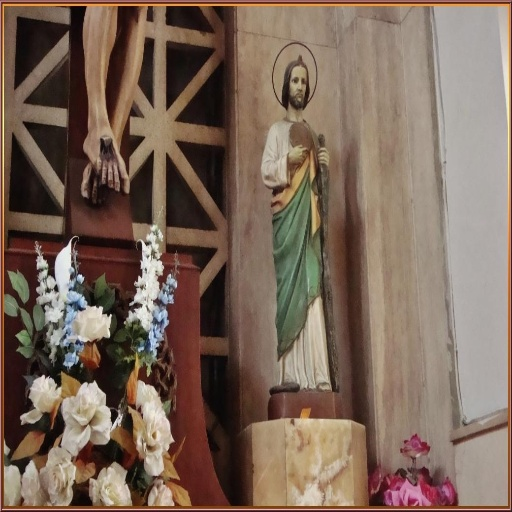hand: (288, 143, 308, 164), (317, 145, 330, 167)
